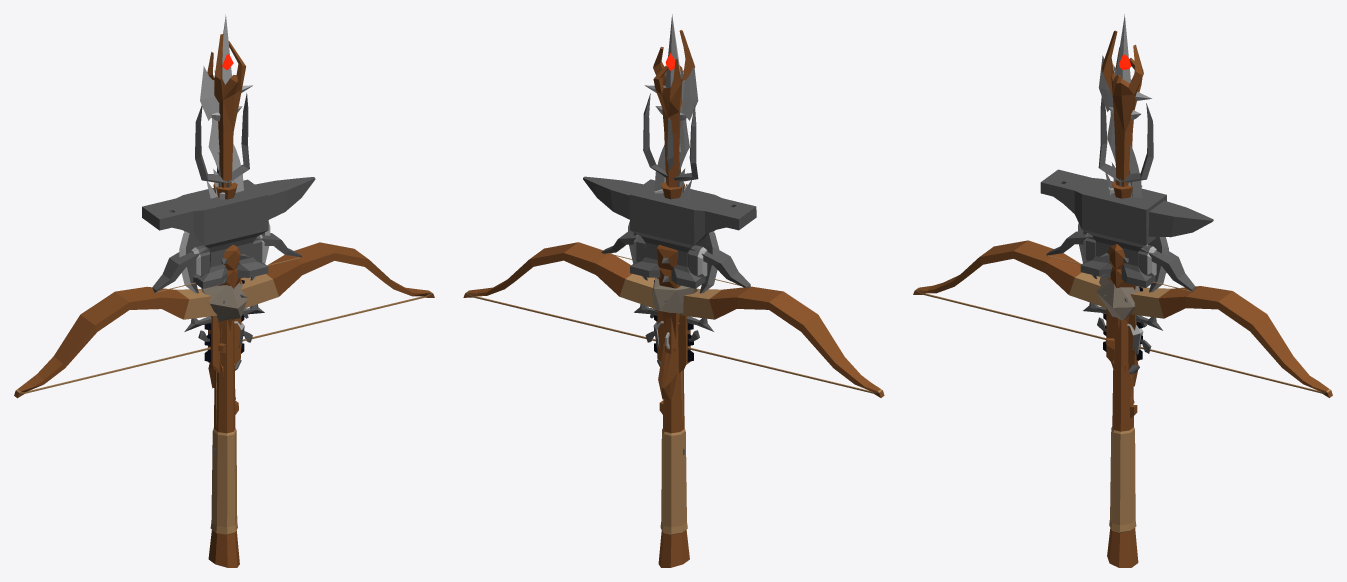
Rendered from Low Poly Weapon Pack - by Kickin It Studios.fbx_Scene_Master_Collection.glb.
3 renders of one model, left to right at view 1: azimuth 30°, elevation 25°; view 2: azimuth 150°, elevation 25°; view 3: azimuth 330°, elevation 25°, orthographic.
Parts seen in each view (by area): view 1: Anvil Hammer, Bow, Wizard Staff, Crossbow, Pitchfork, Big Rock, Halberd, Macuahuitl, Spiked Club, Double Axe, Double Hammer; view 2: Anvil Hammer, Bow, Wizard Staff, Crossbow, Pitchfork, Halberd, Macuahuitl, Spiked Club, Big Rock, Double Hammer, Double Axe; view 3: Anvil Hammer, Bow, Wizard Staff, Crossbow, Pitchfork, Big Rock, Halberd, Macuahuitl, Spiked Club, Double Hammer, Double Axe.
Boxes of the visible parts, bbox=[...] form: Anvil Hammer: bbox=[142, 177, 315, 567]; Bow: bbox=[14, 242, 434, 398]; Wizard Staff: bbox=[207, 34, 246, 187]; Crossbow: bbox=[152, 233, 301, 388]; Pitchfork: bbox=[195, 93, 249, 187]; Big Rock: bbox=[201, 280, 246, 321]; Halberd: bbox=[200, 15, 253, 120]; Macuahuitl: bbox=[204, 278, 244, 373]; Spiked Club: bbox=[217, 244, 250, 331]; Double Axe: bbox=[179, 222, 270, 430]; Double Hammer: bbox=[191, 235, 264, 277]; Anvil Hammer: bbox=[583, 176, 756, 567]; Bow: bbox=[463, 242, 884, 397]; Wizard Staff: bbox=[653, 30, 694, 187]; Crossbow: bbox=[601, 232, 750, 399]; Pitchfork: bbox=[643, 93, 698, 181]; Halberd: bbox=[644, 14, 698, 120]; Macuahuitl: bbox=[654, 277, 693, 373]; Spiked Club: bbox=[656, 244, 680, 338]; Big Rock: bbox=[652, 277, 697, 314]; Double Hammer: bbox=[633, 234, 707, 277]; Double Axe: bbox=[628, 221, 719, 430]; Anvil Hammer: bbox=[1040, 169, 1213, 567]; Bow: bbox=[913, 240, 1332, 397]; Wizard Staff: bbox=[1101, 30, 1143, 186]; Crossbow: bbox=[1046, 231, 1195, 386]; Pitchfork: bbox=[1098, 97, 1153, 186]; Big Rock: bbox=[1096, 277, 1143, 320]; Halberd: bbox=[1098, 14, 1151, 111]; Macuahuitl: bbox=[1103, 285, 1142, 369]; Spiked Club: bbox=[1099, 244, 1133, 329]; Double Hammer: bbox=[1083, 233, 1156, 276]; Double Axe: bbox=[1078, 223, 1168, 292].
Size of the model in its own units: 2.45 by 3.09 by 0.2586.
